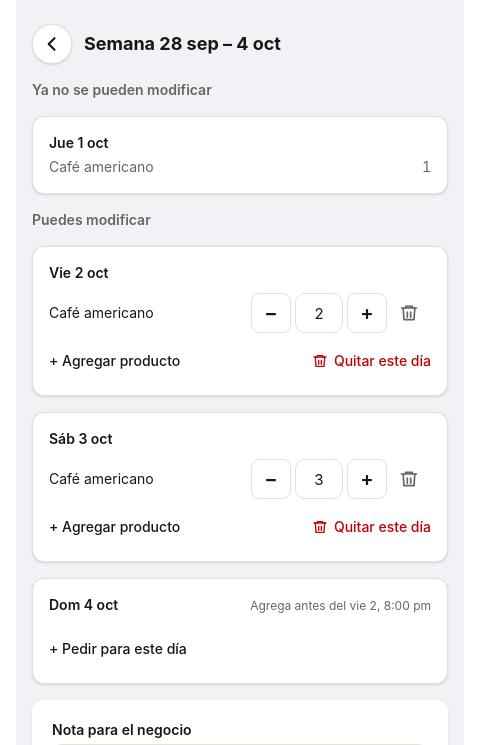
Test case: modificar pedido: control − / + y días cerrados › «+» suma una pieza, «−» resta y no baja de 0; el número también se escribe
The image size is (481, 745).
Click the button "+" below "Sáb 3 oct": [367, 479] box [347, 459, 387, 499]
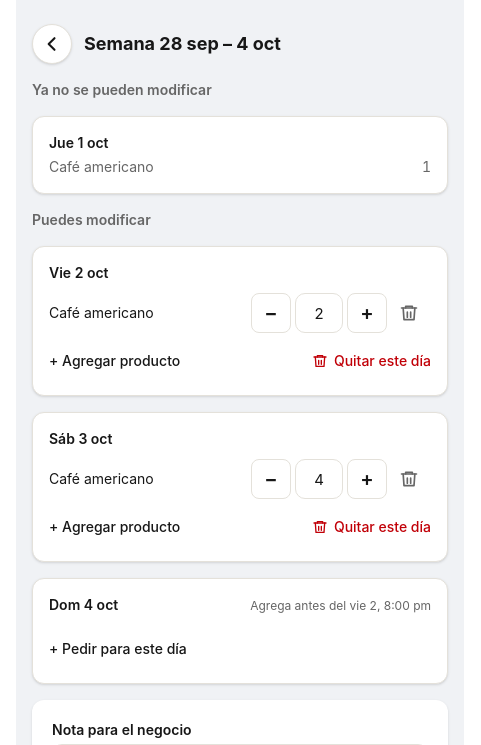
Replace the text in the number field named "Café americano el Sáb 3 oct" with "0": [319, 479] box [295, 459, 343, 499]
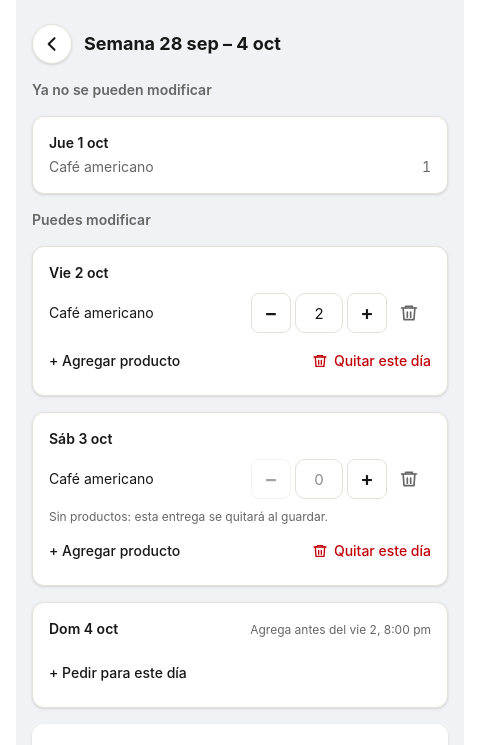
Result: the button "−" below "Sáb 3 oct" is disabled at [251, 459, 291, 499]
